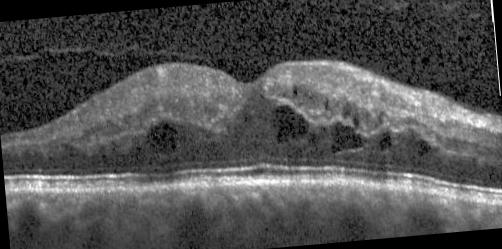intraretinal_cyst: (271, 104, 308, 142), (146, 123, 176, 156), (335, 122, 363, 148), (379, 132, 392, 151), (417, 139, 430, 155), (331, 144, 341, 153), (353, 117, 358, 130), (343, 109, 350, 118), (377, 111, 382, 123), (293, 85, 297, 94), (324, 99, 328, 108), (311, 134, 315, 143), (320, 127, 327, 132)
vitreomacular_traction: (0, 44, 212, 64)
